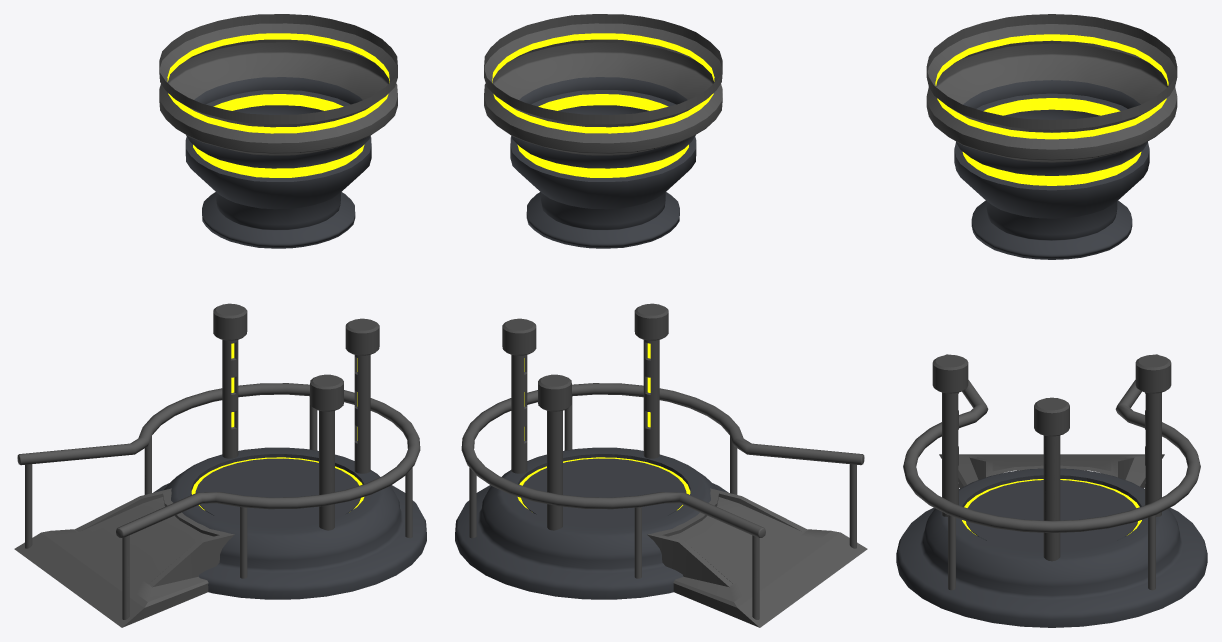
File: ScanningStation.fbx
3 views of the same model, side by side, from view 1: azimuth 30°, elevation 25°; view 2: azimuth 150°, elevation 25°; view 3: azimuth 270°, elevation 25° (orthographic). The views are drawn at different scales.
Visible parts, largest first — view 1: Main, Ramp, Rail, Posts; view 2: Main, Ramp, Rail, Posts; view 3: Main, Posts, Rail, Ramp.
Part boxes in pixels (<box>): Main: <box>153,14,426,599</box>; Ramp: <box>14,488,234,627</box>; Rail: <box>17,383,420,619</box>; Posts: <box>213,303,379,530</box>; Main: <box>455,14,728,599</box>; Ramp: <box>647,488,867,627</box>; Rail: <box>461,383,864,619</box>; Posts: <box>502,303,668,530</box>; Main: <box>896,14,1207,627</box>; Posts: <box>932,354,1171,561</box>; Rail: <box>903,354,1200,590</box>; Ramp: <box>939,454,1164,488</box>.
Bounding box in the file's own units: 9.02 × 12 × 6.84.
